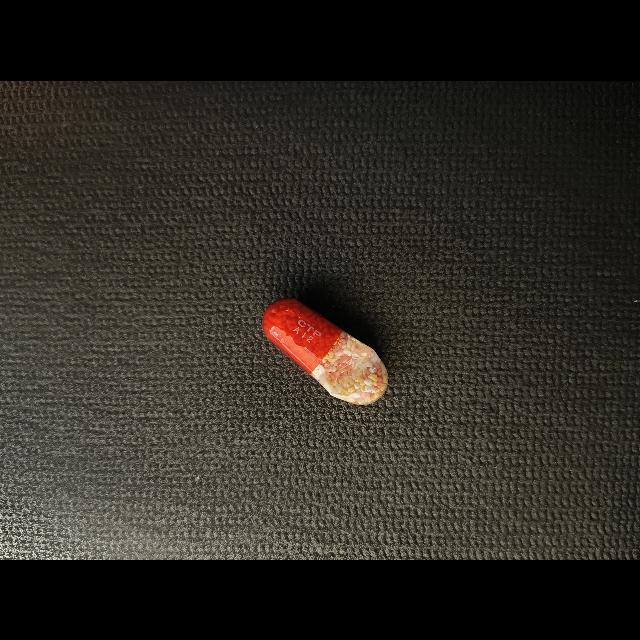Defective Capsule: (262, 298, 388, 405)
